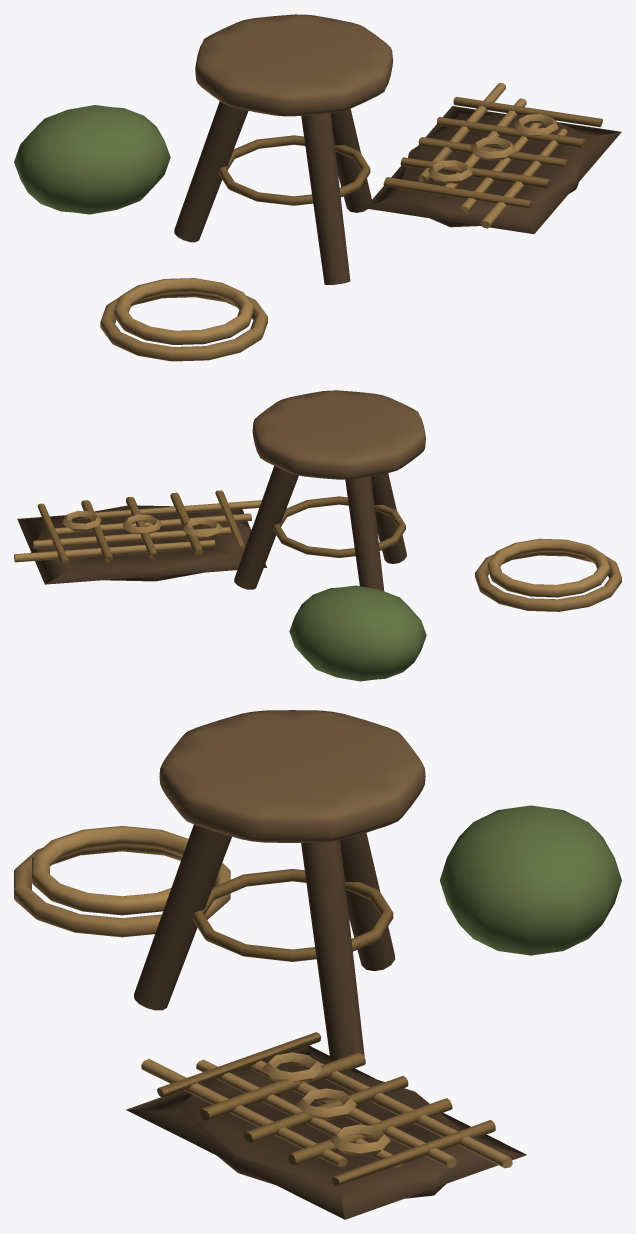
The model's file is mender_stool_b.glb.
3 renders of one model, top to bottom at view 1: azimuth 30°, elevation 25°; view 2: azimuth 150°, elevation 25°; view 3: azimuth 270°, elevation 25°, orthographic. The views are drawn at different scales.
Visible parts, largest first — view 1: Surface; view 2: Surface; view 3: Surface.
Boxes of the visible parts, left/top/right/bottom form: Surface: left=14, top=14, right=621, bottom=361; Surface: left=14, top=390, right=621, bottom=681; Surface: left=14, top=710, right=621, bottom=1219.
Bounding box in the file's own units: 2.67 × 0.8263 × 1.79.
